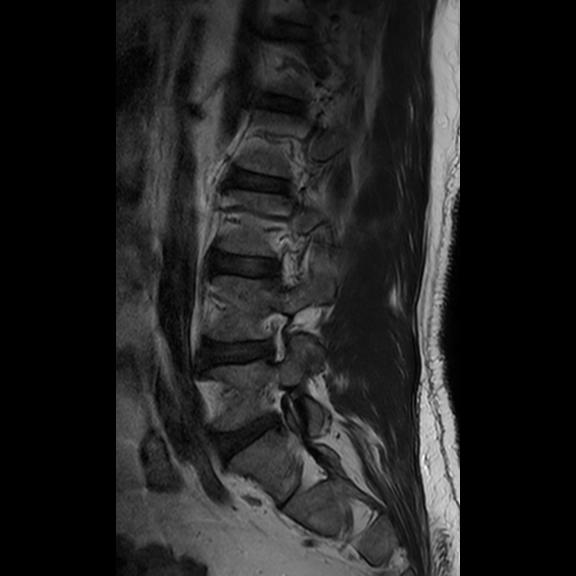RFS1: (250, 296, 301, 377)
